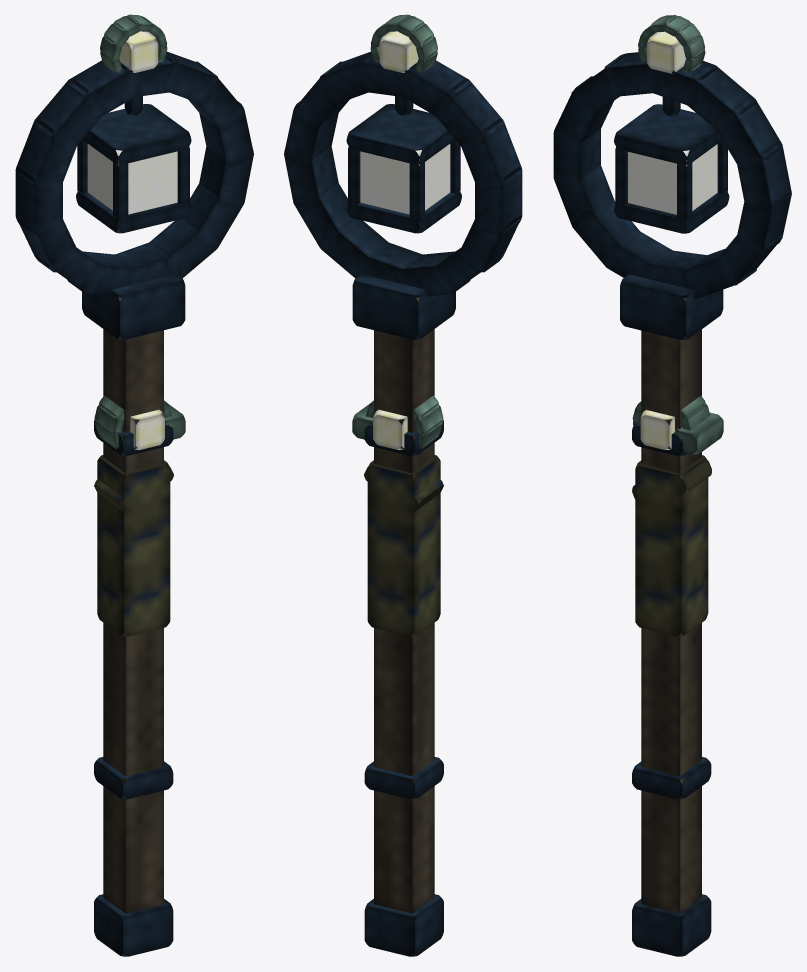
The model's file is beacon_staff.obj.
3 views of the same model, side by side, from view 1: azimuth 30°, elevation 25°; view 2: azimuth 150°, elevation 25°; view 3: azimuth 330°, elevation 25° (orthographic).
Parts seen in each view (by area): view 1: lit, fire; view 2: lit, fire; view 3: lit, fire.
Boxes of the visible parts, x1=… form: lit: x1=15, y1=14, x2=253, y2=956; fire: x1=87, y1=31, x2=177, y2=449; lit: x1=284, y1=14, x2=522, y2=956; fire: x1=360, y1=31, x2=450, y2=449; lit: x1=553, y1=15, x2=791, y2=956; fire: x1=628, y1=31, x2=717, y2=449.
Bounding box in the file's own units: 0.7148 × 2.85 × 0.2375.
